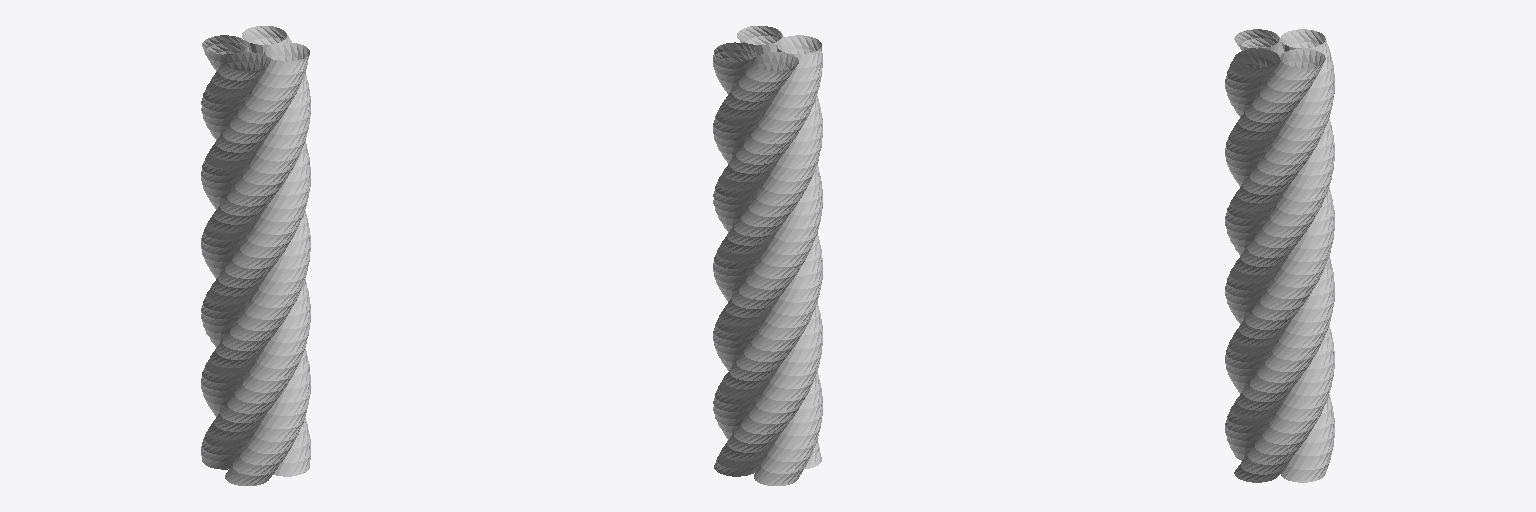
The model's file is ropeTest3.obj.
The picture shows the model from 3 angles: view 1: azimuth 30°, elevation 25°; view 2: azimuth 150°, elevation 25°; view 3: azimuth 270°, elevation 25°; orthographic projection.
Visible parts, largest first — view 1: pCylinder20; view 2: pCylinder20; view 3: pCylinder20.
Boxes of the visible parts, <box> form: pCylinder20: <box>201,26,310,485</box>; pCylinder20: <box>713,26,822,485</box>; pCylinder20: <box>1225,29,1334,482</box>.
Size of the model in its own units: 0.2411 by 1 by 0.2407.